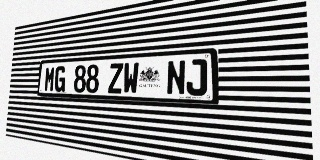8: (86, 64, 100, 93), (73, 65, 87, 93)
G: (54, 66, 66, 92)
J: (186, 59, 207, 96)
M: (44, 66, 55, 92)
N: (166, 60, 186, 95)
W: (123, 62, 139, 94)
Z: (108, 63, 123, 94)
